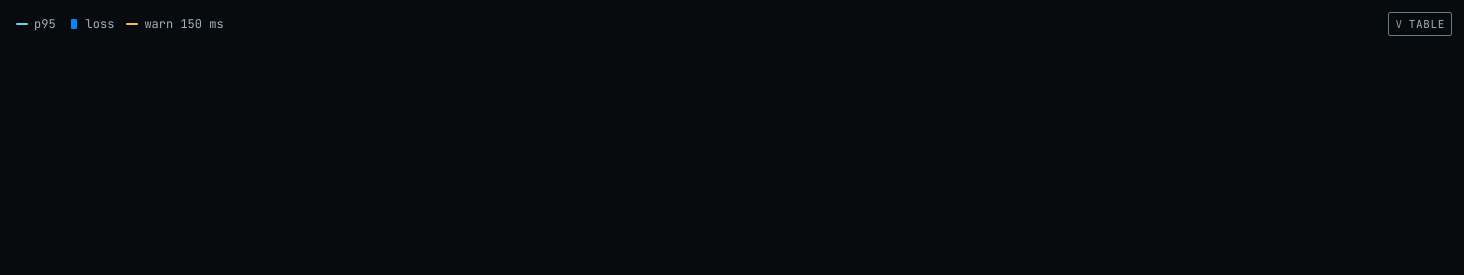
table view twin › is a real table with a caption and header scopes
This screenshot has width=1464, height=275.
Click the button "v Table" at (1420, 24), box [1388,12,1452,36]
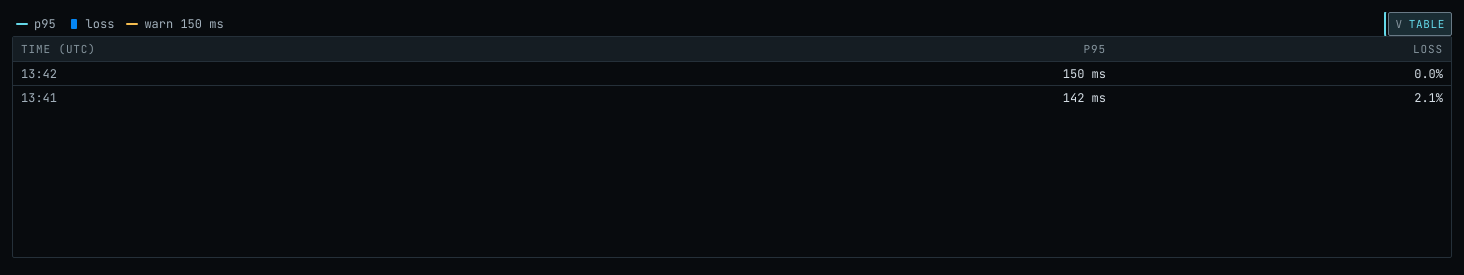
Now the column headings read "Time (UTC)", "p95", "Loss", in this order, box [13,37,680,61]; [680,37,1114,61]; [1114,37,1451,61]
Now the row "13:41 142 ms 2.1%" is shown, box [13,86,1451,110]
